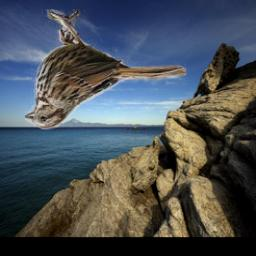Sparrow: (24, 9, 185, 129)
